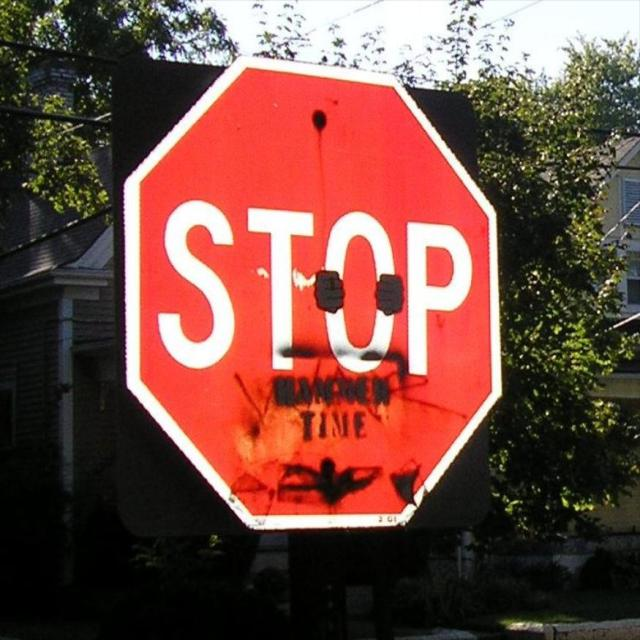Stop-sign: (124, 53, 503, 529)
